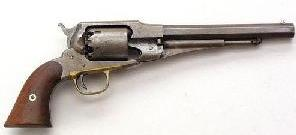gun: (1, 1, 296, 135)
